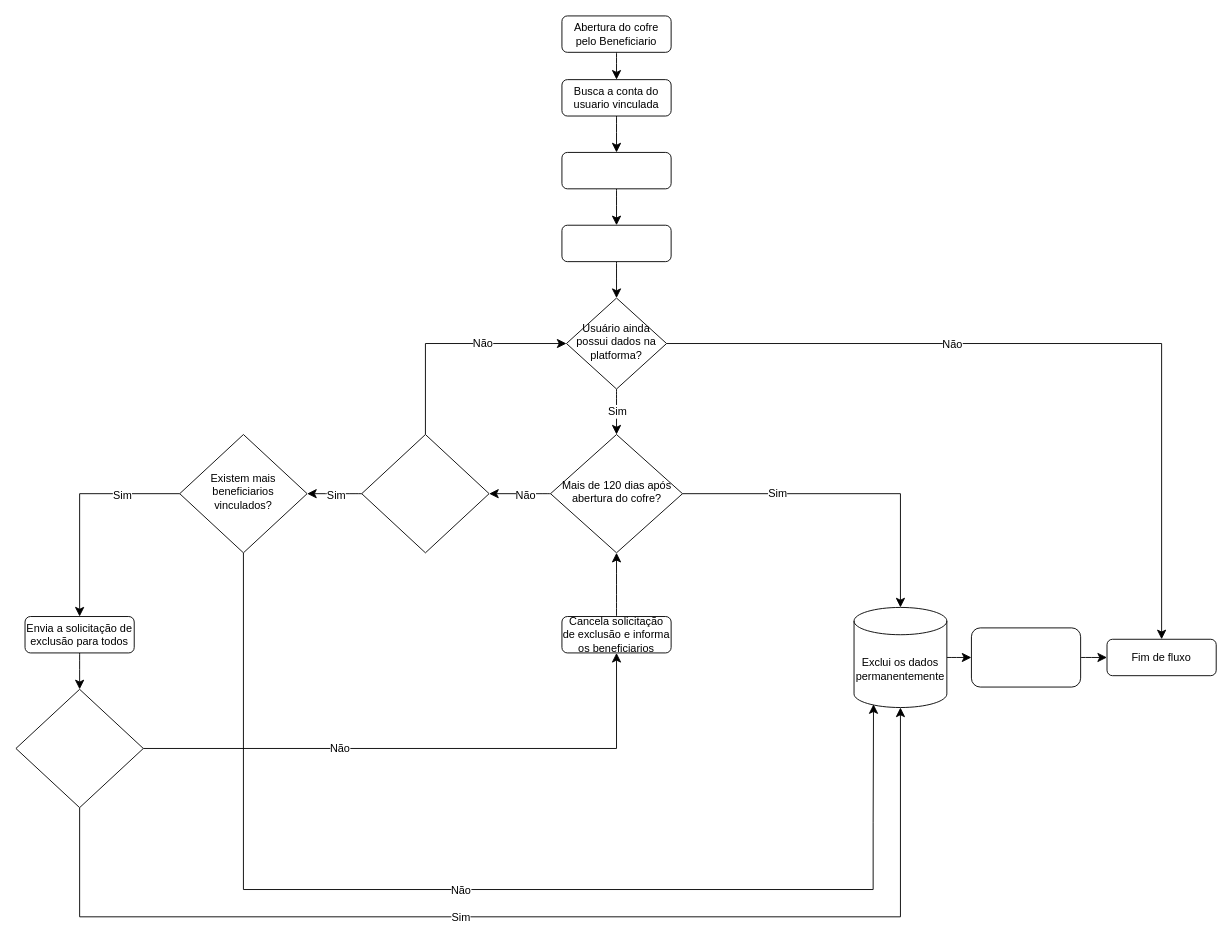
The diagram is 1232 pixels wide and 942 high, and some of its shapes have lost their labels. Each missing label, with the centre of its shape:
"Avisa os beneficiarios da exclusão e o motivo" goes at [1026,657].
"Beneficiario solicitou a exclusão dos dados?" goes at [425,493].
"Efetua o cancelamento da conta na plataforma" goes at [616,243].
"Efetua o cancelamento do plano (EFI)" goes at [616,170].
"Houve o aceite de todos os envolvidos?" goes at [79,748].
